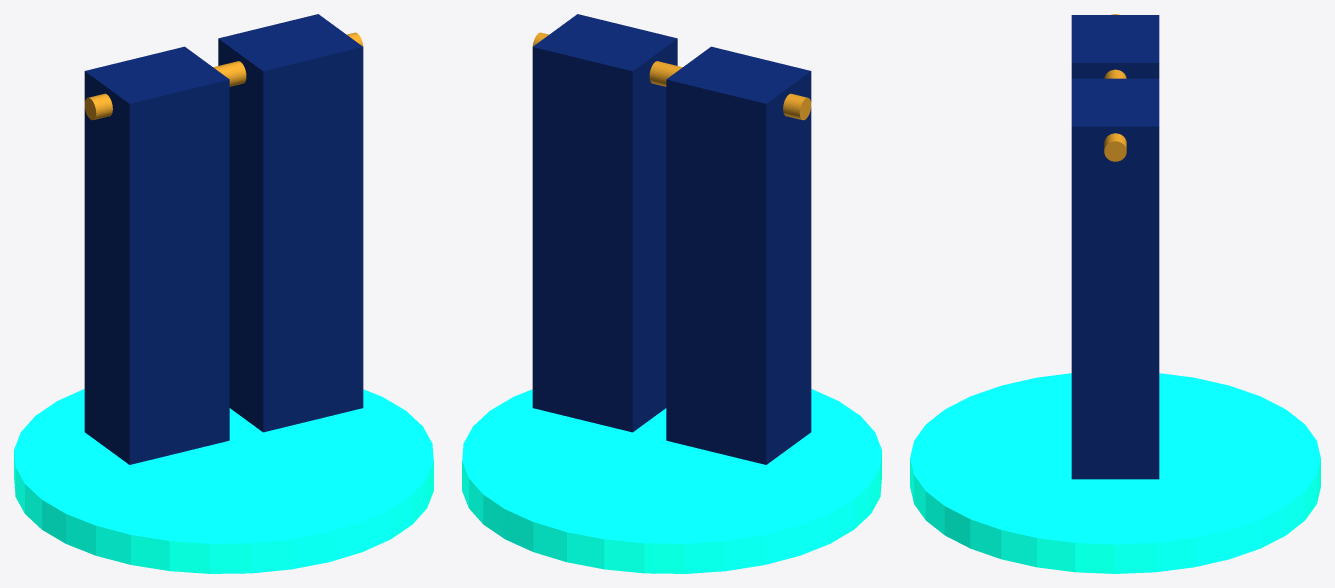
Rendered from fashion_jeans.dae.
3 views of the same model, side by side, from view 1: azimuth 30°, elevation 25°; view 2: azimuth 150°, elevation 25°; view 3: azimuth 270°, elevation 25° (orthographic). The views are drawn at different scales.
Parts seen in each view (by area): view 1: 06_07_Popular_Fashion_Jeans_part_01, 06_07_Popular_Fashion_Jeans_ROOT_base, 06_07_Popular_Fashion_Jeans_part_02, 06_07_Popular_Fashion_Jeans_part_03; view 2: 06_07_Popular_Fashion_Jeans_part_01, 06_07_Popular_Fashion_Jeans_ROOT_base, 06_07_Popular_Fashion_Jeans_part_02, 06_07_Popular_Fashion_Jeans_part_03; view 3: 06_07_Popular_Fashion_Jeans_ROOT_base, 06_07_Popular_Fashion_Jeans_part_02, 06_07_Popular_Fashion_Jeans_part_01, 06_07_Popular_Fashion_Jeans_part_03.
Boxes of the visible parts, x1=… form: 06_07_Popular_Fashion_Jeans_part_01: x1=84, y1=46, x2=229, y2=464; 06_07_Popular_Fashion_Jeans_ROOT_base: x1=14, y1=389, x2=433, y2=573; 06_07_Popular_Fashion_Jeans_part_02: x1=218, y1=14, x2=363, y2=432; 06_07_Popular_Fashion_Jeans_part_03: x1=84, y1=32, x2=363, y2=120; 06_07_Popular_Fashion_Jeans_part_01: x1=666, y1=46, x2=811, y2=464; 06_07_Popular_Fashion_Jeans_ROOT_base: x1=462, y1=389, x2=881, y2=573; 06_07_Popular_Fashion_Jeans_part_02: x1=532, y1=14, x2=677, y2=432; 06_07_Popular_Fashion_Jeans_part_03: x1=532, y1=32, x2=811, y2=120; 06_07_Popular_Fashion_Jeans_ROOT_base: x1=910, y1=373, x2=1320, y2=573; 06_07_Popular_Fashion_Jeans_part_02: x1=1071, y1=78, x2=1159, y2=479; 06_07_Popular_Fashion_Jeans_part_01: x1=1071, y1=15, x2=1159, y2=78; 06_07_Popular_Fashion_Jeans_part_03: x1=1104, y1=14, x2=1126, y2=161.
Bounding box in the file's own units: 0.76 × 0.85 × 0.76.
